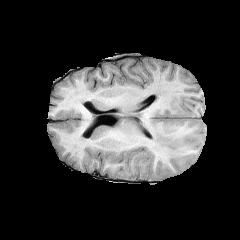glioma: (144, 78, 193, 166)
